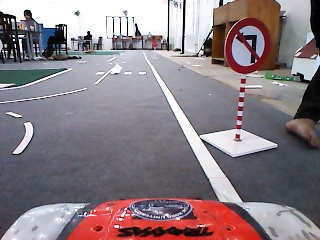ban_left: (224, 16, 273, 74)
